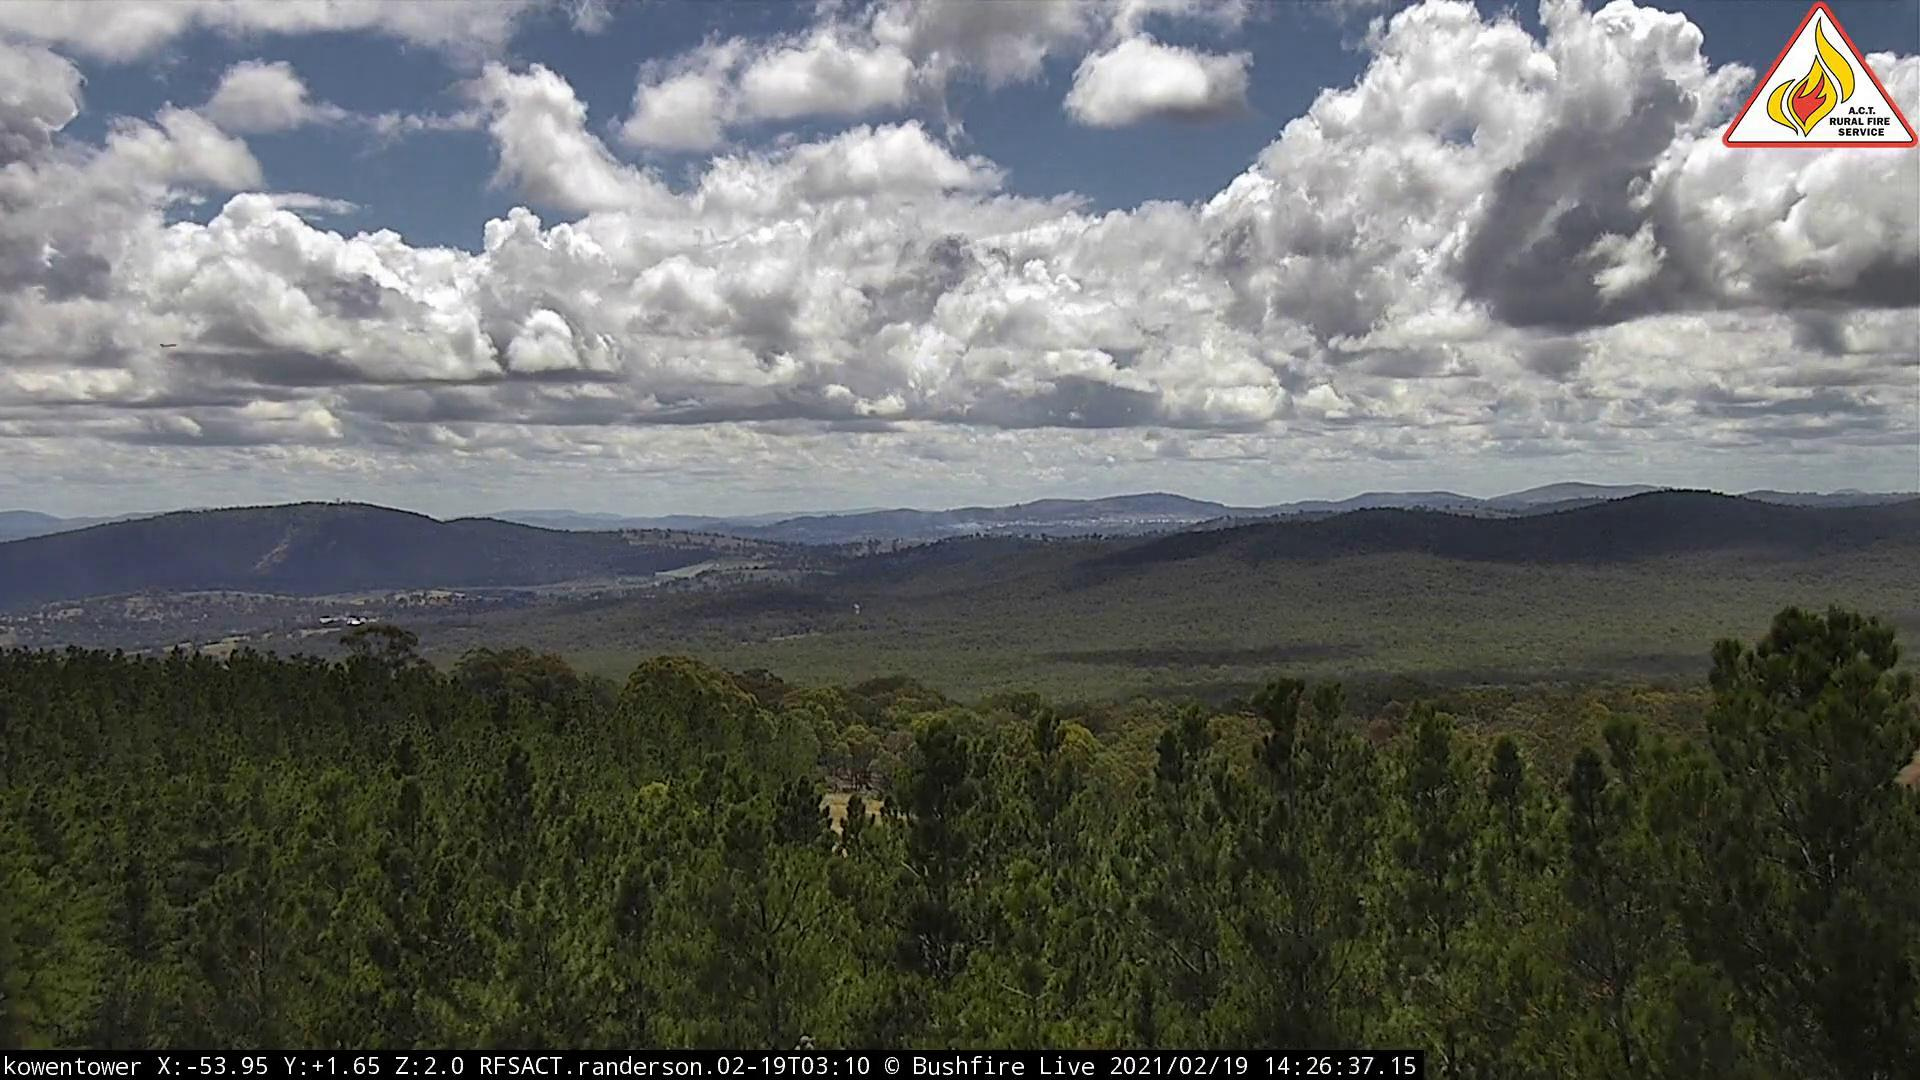Smoke: (957, 516, 1000, 545)
